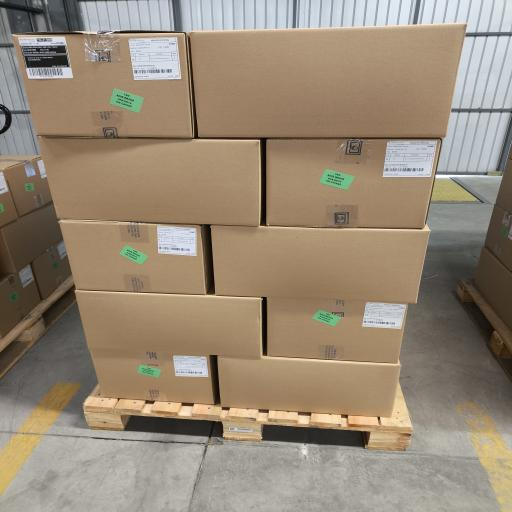pallet: (84, 386, 412, 450), (0, 276, 76, 377), (457, 279, 511, 379)
